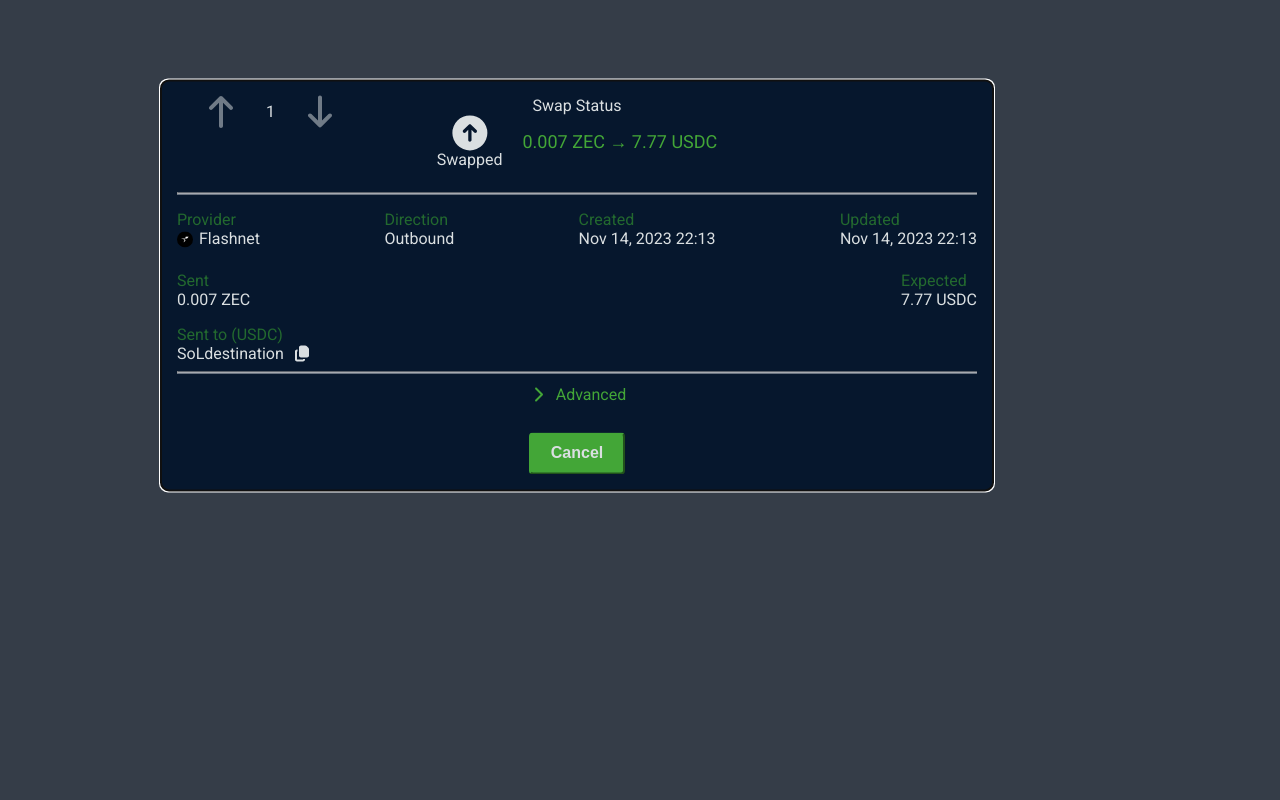
Test: SwapDetailModal slippage › shows the tolerance and what the swap came to
The image size is (1280, 800).
Click the button "Advanced" at (577, 394), box [520,381,634,408]
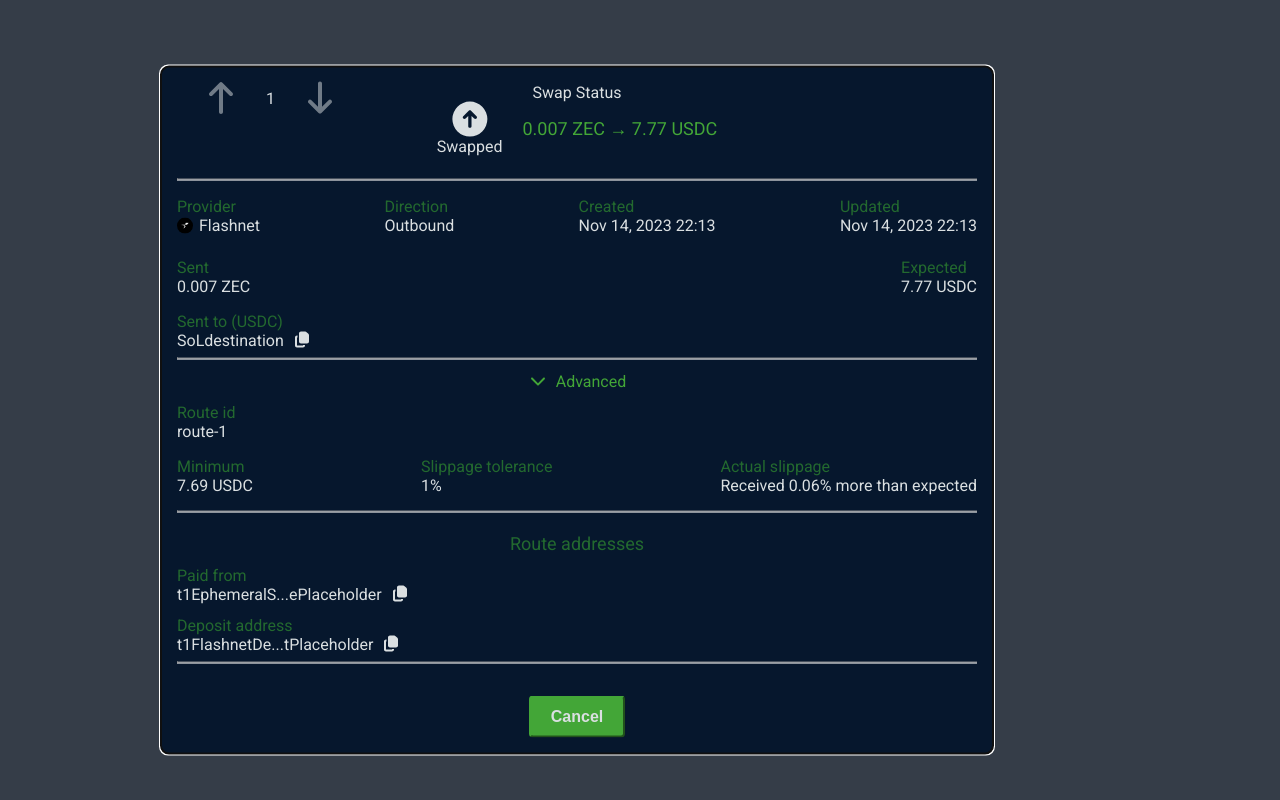
Expected: the text "Slippage tolerance" is shown, [421,456,552,475]
Expected: the text "1%" is shown, [421,475,442,494]
Expected: the text "Received 0.06% more than expected" is shown, [720,475,977,494]
